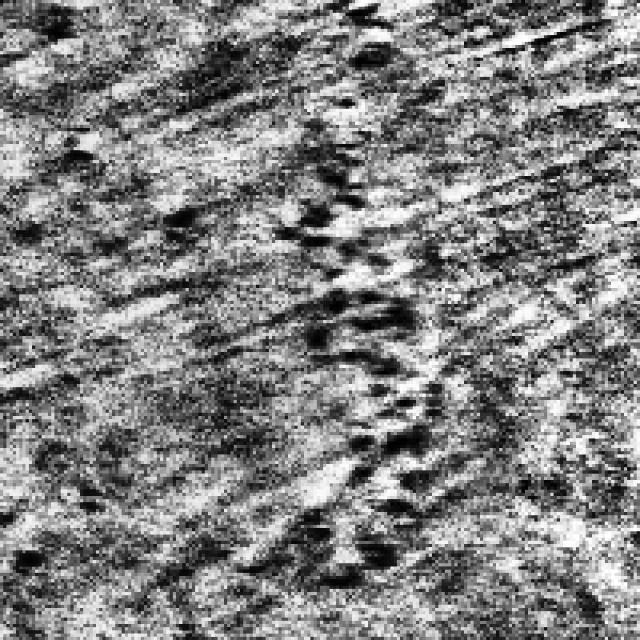Crazing: (250, 111, 444, 614)
